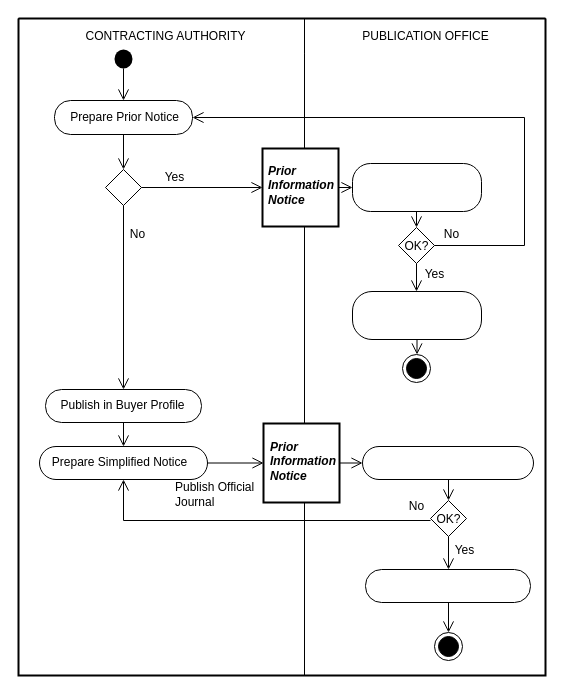
The diagram is 563 pixels wide and 693 high, and some of its shapes have lost their labels. The centre of each missing label's shape, as x and y in pixels:
Above Thresholds?: pixel 123 187
Publish Prior Information Notice: pixel 417 315
Publish Simplified Notice: pixel 447 585
Validate Prior Information Notice: pixel 417 187
Validate Simplified Notice: pixel 448 463
